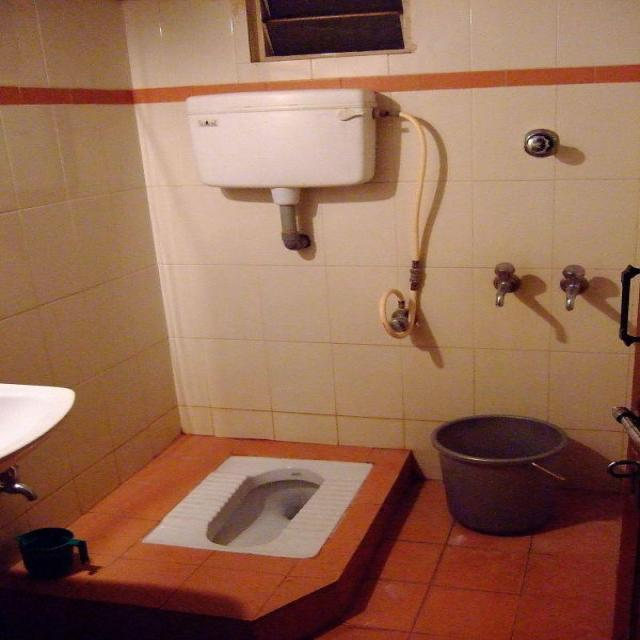dirty_floor: (2, 2, 637, 635), (136, 69, 637, 469), (1, 1, 182, 547), (5, 430, 422, 635), (315, 473, 630, 638), (1, 62, 638, 109), (140, 451, 374, 561), (430, 412, 570, 536), (204, 467, 323, 548)
